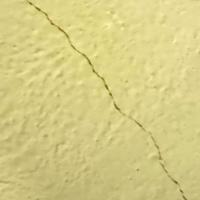crack: (26, 0, 188, 198)
